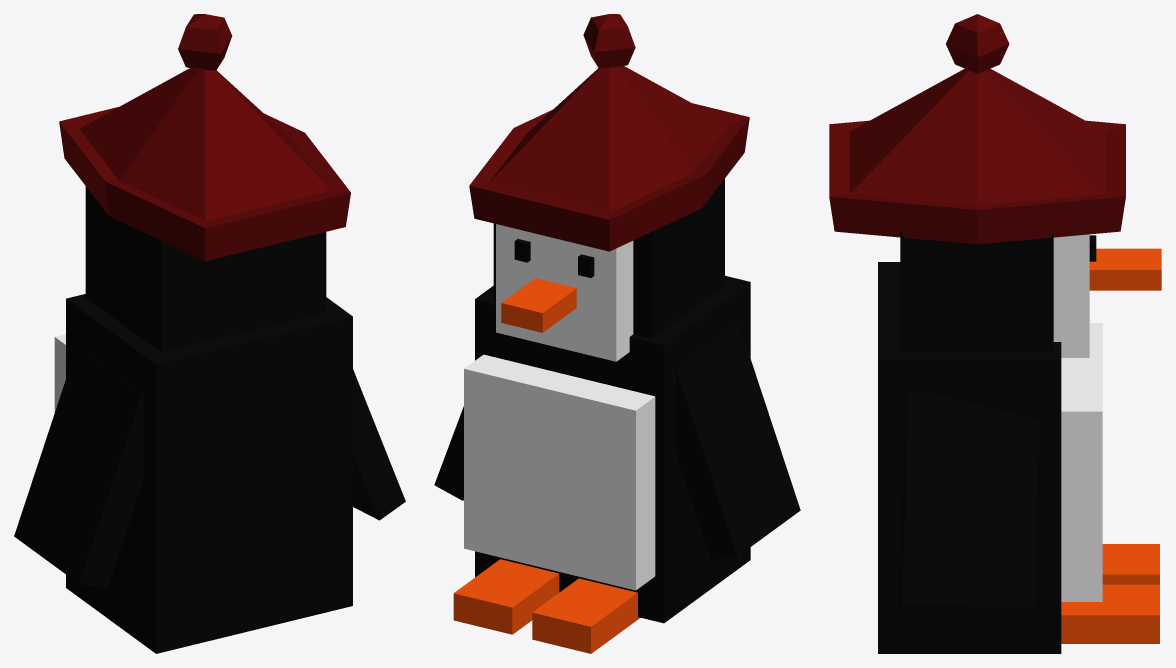
File: MiniGamePenguin.obj
3 views of the same model, side by side, from view 1: azimuth 30°, elevation 25°; view 2: azimuth 150°, elevation 25°; view 3: azimuth 270°, elevation 25° (orthographic). The views are drawn at different scales.
Parts seen in each view (by area): view 1: polySurface1140; view 2: polySurface1140; view 3: polySurface1140.
Part boxes in pixels (bbox=[...]): polySurface1140: bbox=[14, 14, 405, 653]; polySurface1140: bbox=[434, 14, 800, 653]; polySurface1140: bbox=[829, 14, 1161, 653].
Bounding box in the file's own units: 0.8316 × 1.42 × 0.7223.
